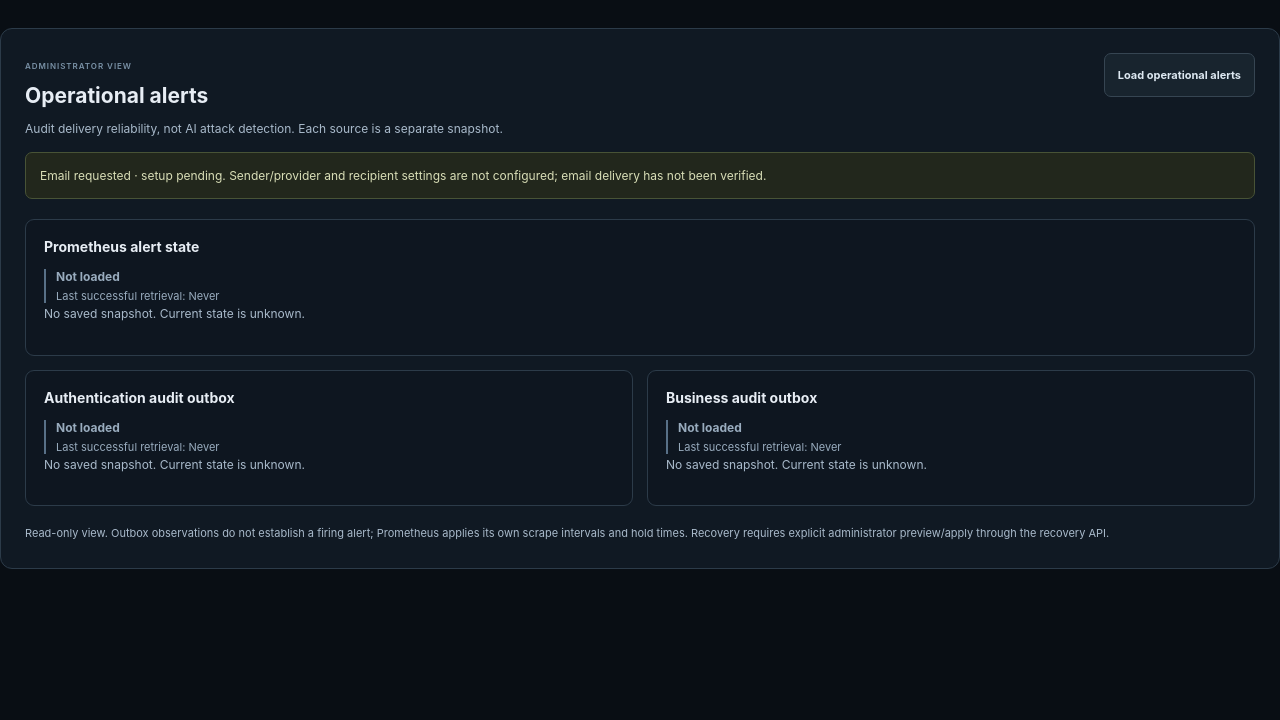
Scenario: displays the reviewed audit-persistence alert AdaptiveAuditWriteFailure
Step 1. Click the button "Load operational alerts" → (1179, 75), box [1104,53,1255,97]
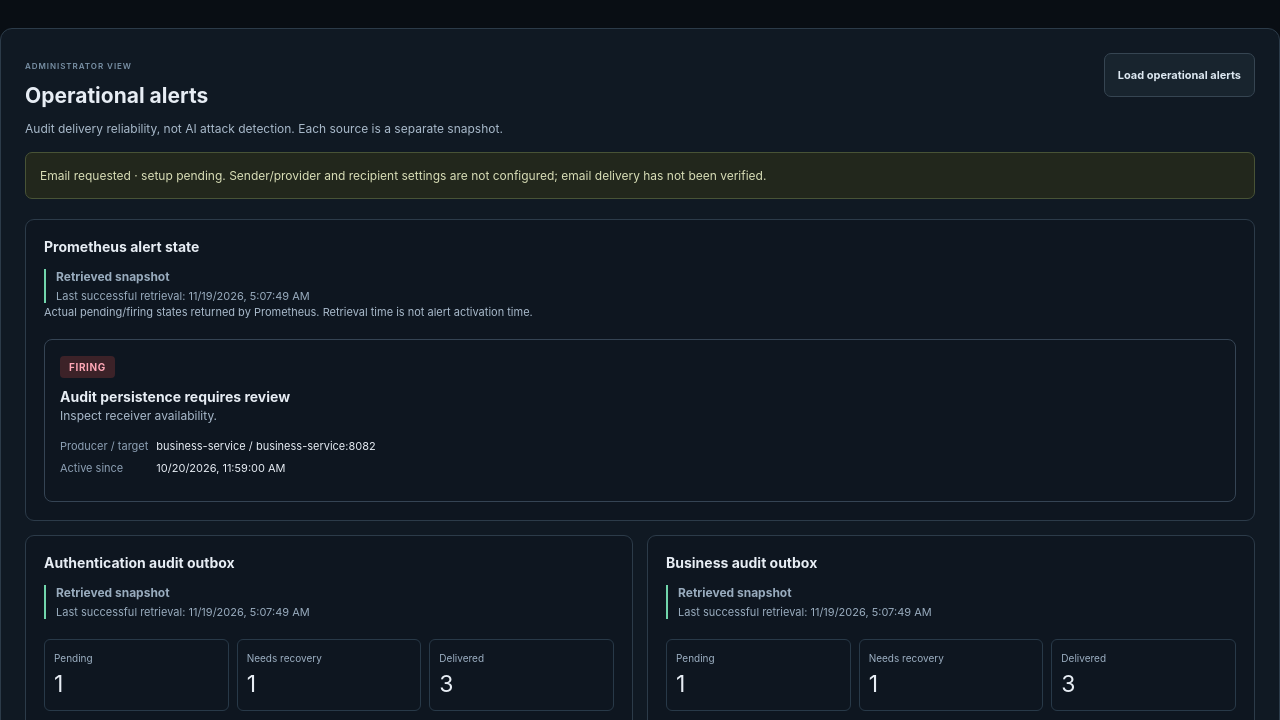
Now the heading "Audit persistence requires review" is shown, box [60,388,290,405]
Now the text "firing" is shown, box [60,356,115,378]
